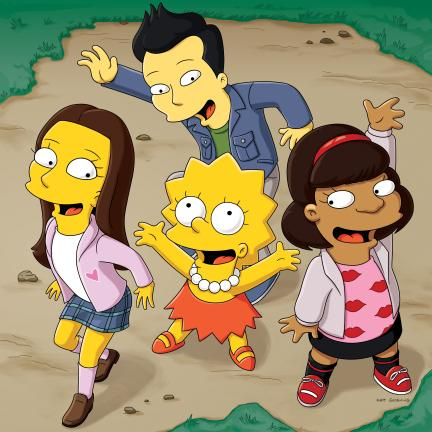Lisa: (146, 151, 295, 379)
